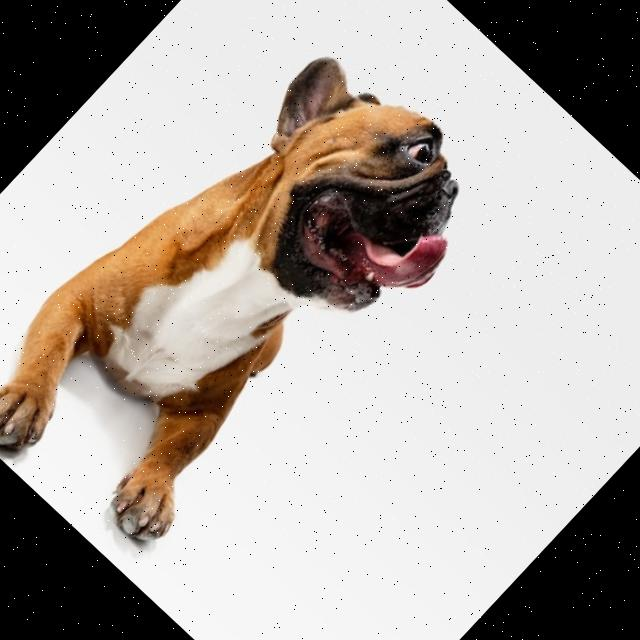Dog: (0, 8, 512, 586)
